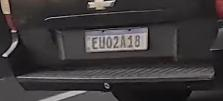Placa_mercosul_carro: (85, 27, 149, 51)
